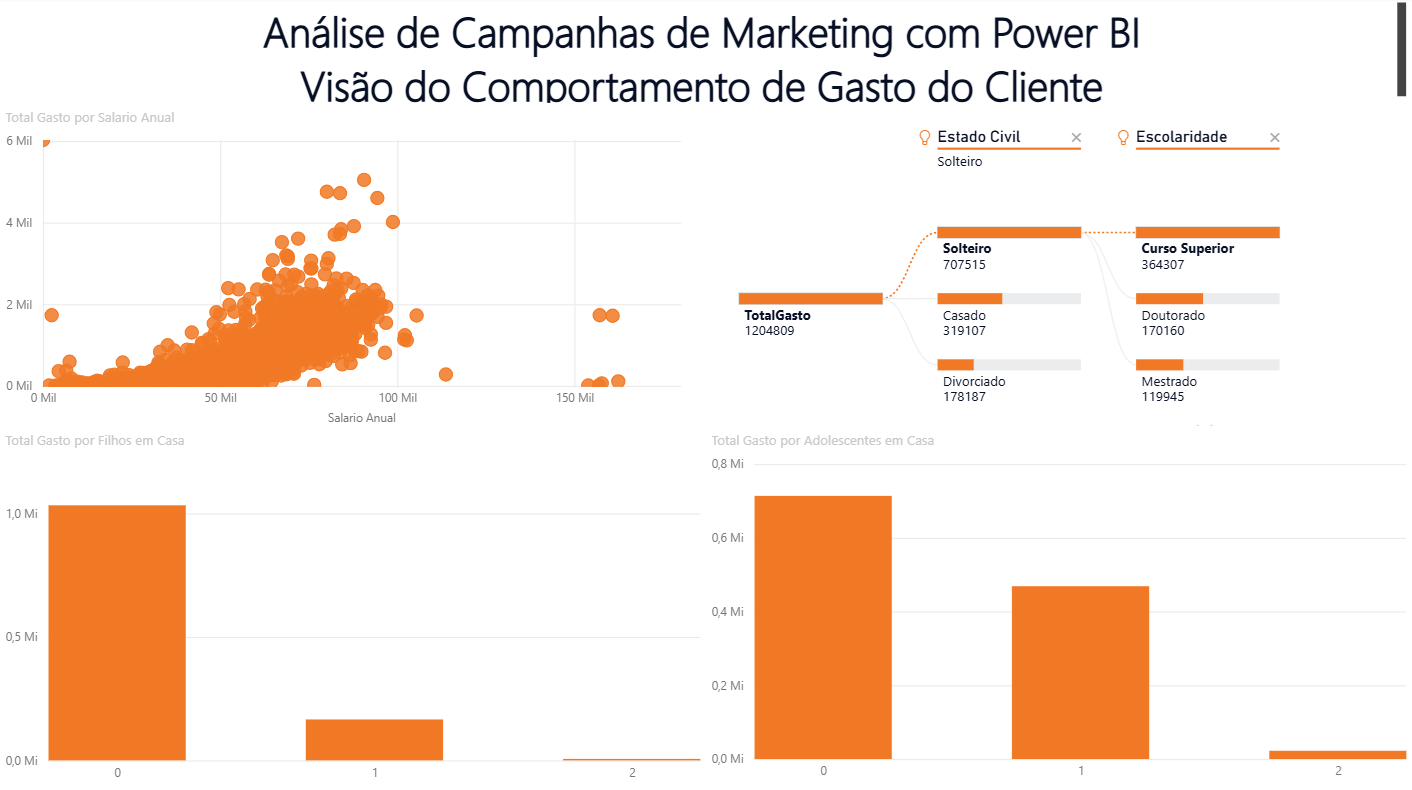

Layout of this report page (visuals, bound fields, positions):
{"tool":"powerbi","page":{"name":"Visão Comportamento","canvas":[1280,720],"ordinal":1},"visuals":[{"type":"scatterChart","title":"Total Gasto por Salario Anual","fields":{"X":["DadosMarketing.Salario Anual"],"Y":["DadosMarketing.TotalGasto"]},"box":[0,100.7,640.2,292.9],"z":0},{"type":"textbox","box":[0,0,1280,100.8],"z":1000},{"type":"columnChart","title":"Total Gasto por Filhos em Casa","fields":{"Y":["DadosMarketing.TotalGasto"],"Category":["DadosMarketing.Filhos em Casa"]},"box":[0,393.2,640.1,327.7],"z":2000},{"type":"columnChart","title":"Total Gasto por Adolescentes em Casa","fields":{"Y":["DadosMarketing.TotalGasto"],"Category":["DadosMarketing.Adolescentes em Casa"]},"box":[640.2,393.6,640.2,326.4],"z":3000},{"type":"decompositionTreeVisual","fields":{"Analyze":["DadosMarketing.TotalGasto"],"ExplainBy":["DadosMarketing.Estado Civil","DadosMarketing.Escolaridade"]},"box":[640.2,101.6,640.2,292],"z":4000}]}

Visuals, with their boxes in screenshot pixels (x1, y1, x2, y2), scaled from the page's 1280x720 canvas onto the 1412x790 screenshot:
"Total Gasto por Salario Anual" scatterChart: [x1=0, y1=110, x2=706, y2=432]
textbox: [x1=0, y1=0, x2=1411, y2=111]
"Total Gasto por Filhos em Casa" columnChart: [x1=0, y1=431, x2=706, y2=789]
"Total Gasto por Adolescentes em Casa" columnChart: [x1=706, y1=432, x2=1411, y2=789]
decompositionTreeVisual - DadosMarketing.TotalGasto x DadosMarketing.Estado Civil: [x1=706, y1=111, x2=1411, y2=432]
